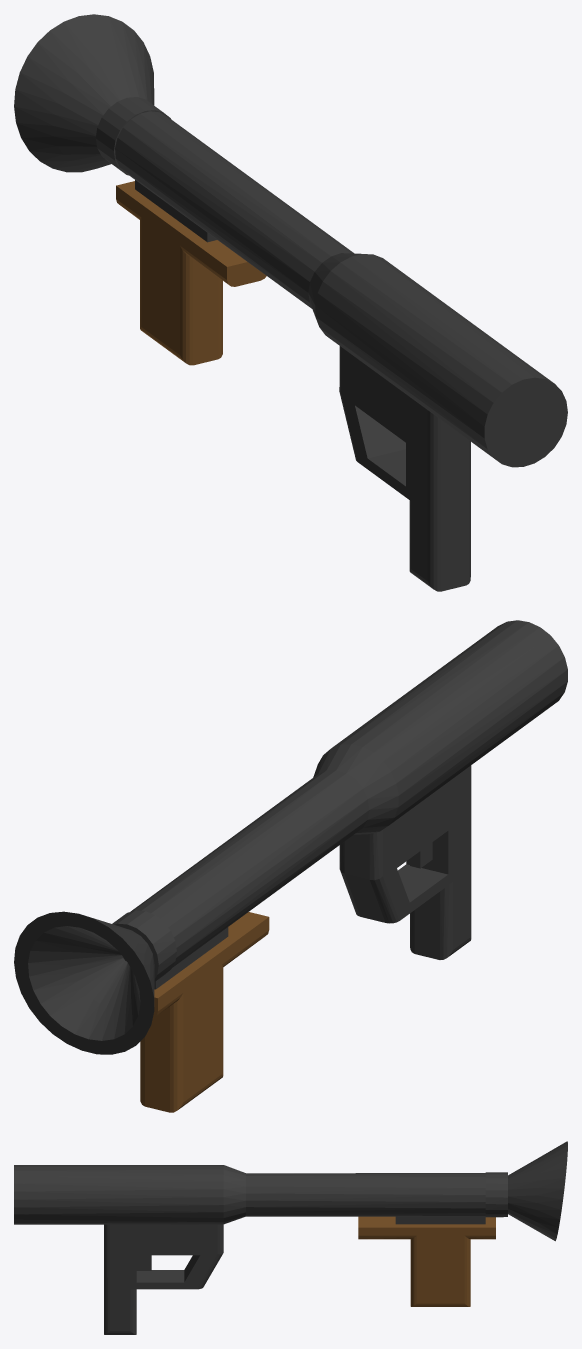
The model's file is Weapon-Projectile-Body.fbx.
3 views of the same model, one above another, from view 1: azimuth 30°, elevation 25°; view 2: azimuth 150°, elevation 25°; view 3: azimuth 270°, elevation 25° (orthographic). The views are drawn at different scales.
Visible parts, largest first — view 1: Weapon-Projectile-Body; view 2: Weapon-Projectile-Body; view 3: Weapon-Projectile-Body.
Boxes of the visible parts, x1,y1,x2,y2 form: Weapon-Projectile-Body: (14, 14, 567, 591); Weapon-Projectile-Body: (14, 620, 567, 1112); Weapon-Projectile-Body: (14, 1141, 567, 1334).
Size of the model in its own units: 167 by 340 by 925.
